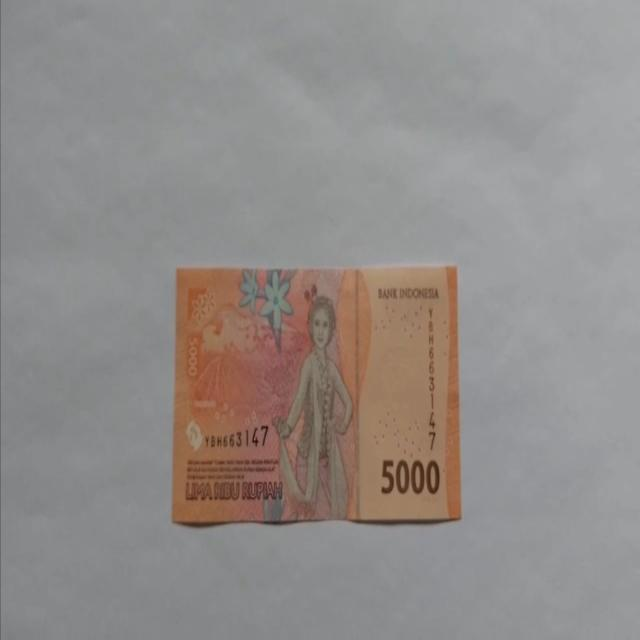lima ribu rupiah: (171, 263, 461, 525), (270, 294, 356, 521)
